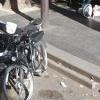Bicycle: (4, 34, 49, 100)
